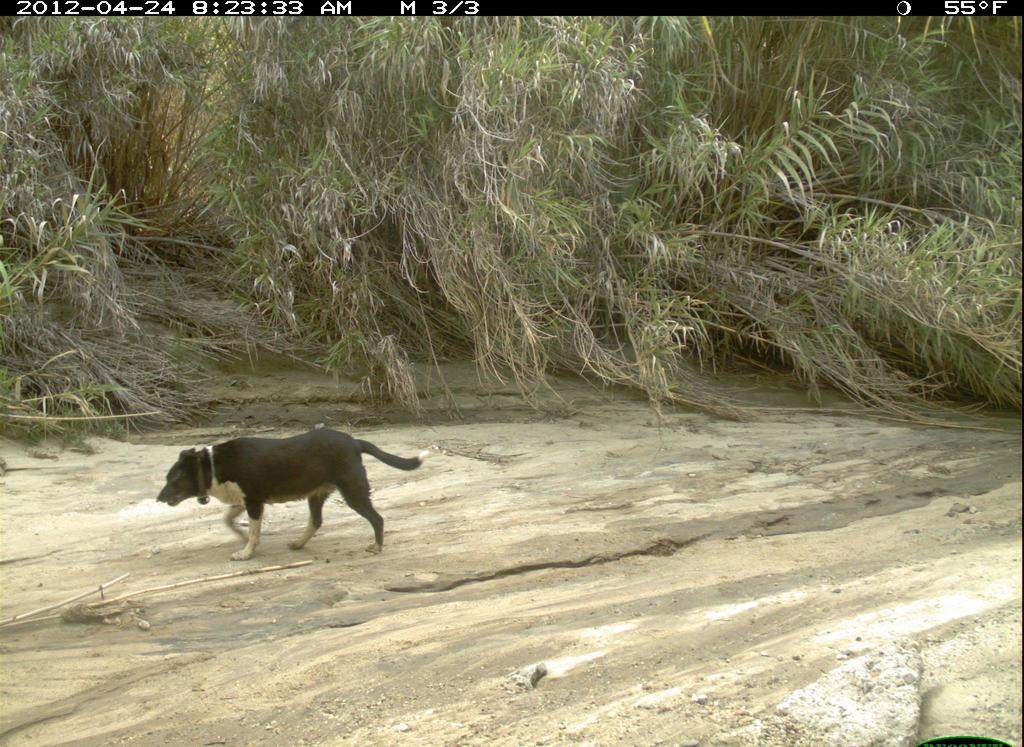dog: (154, 424, 441, 575)
